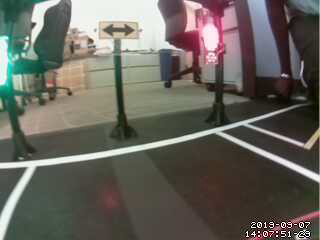Left_Right_sign: (98, 20, 142, 37)
Traffic_light_green: (1, 39, 9, 81)
Traffic_light_red: (201, 23, 221, 62)
